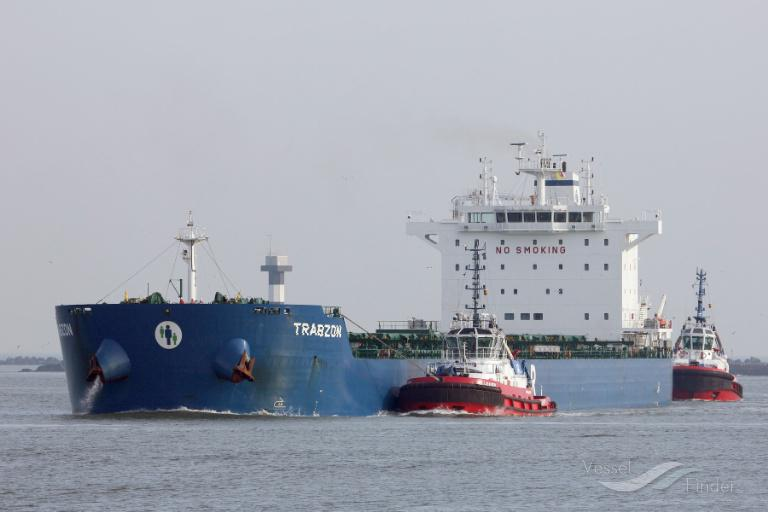OCR: (282, 310, 342, 352)
